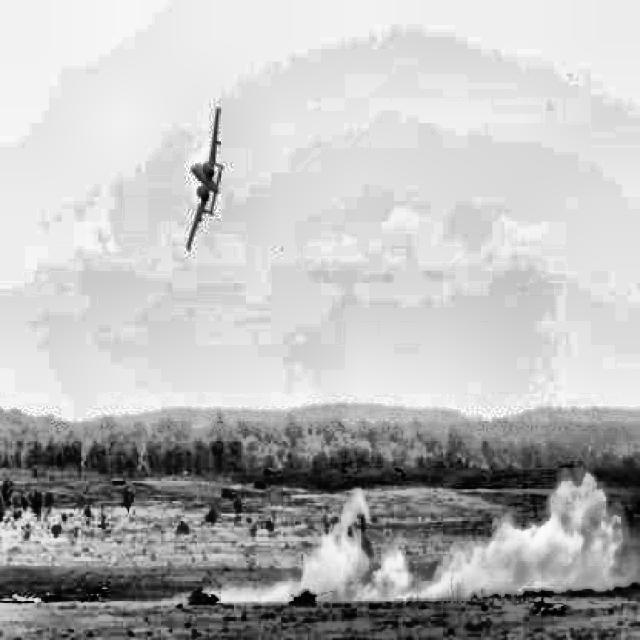A10: (187, 107, 224, 251)
